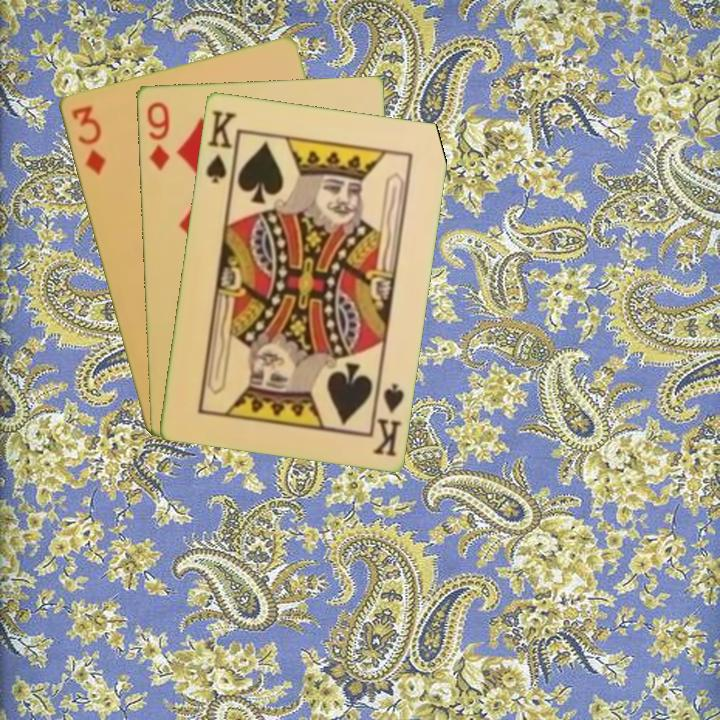3d: (67, 102, 109, 179)
9d: (143, 98, 172, 173)
Ks: (368, 375, 407, 459), (201, 106, 240, 188)
